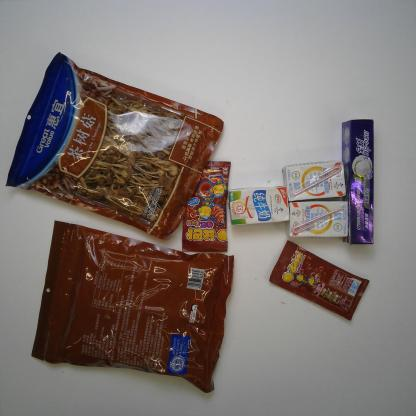Candy: (267, 238, 372, 322), (181, 159, 232, 255)
Dried Food: (2, 50, 227, 242), (30, 217, 236, 396)
Milk: (281, 159, 349, 202), (228, 184, 291, 228), (287, 199, 350, 240)
Personal Hygiene: (339, 117, 376, 246)
